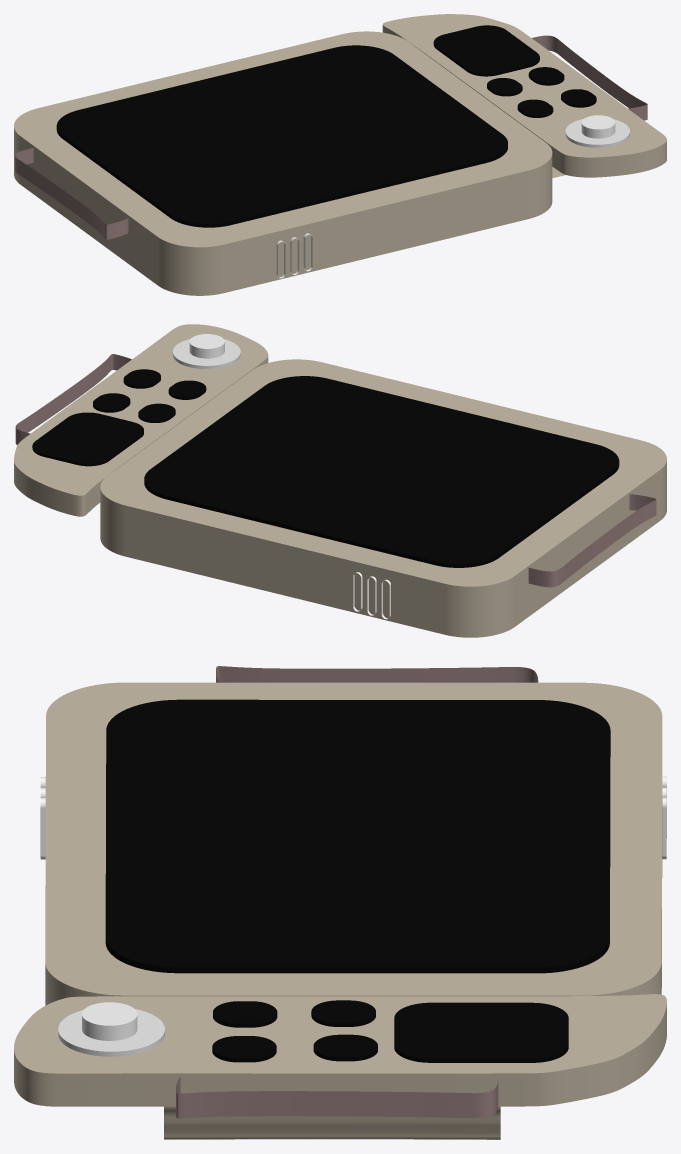
File: stove-concept-2.glb
3 renders of one model, top to bottom at view 1: azimuth 30°, elevation 25°; view 2: azimuth 150°, elevation 25°; view 3: azimuth 270°, elevation 25°, orthographic. The views are drawn at different scales.
Parts seen in each view (by area): view 1: part-01, part-23, part-19, part-20, part-12, part-13, part-17, part-14, part-16, part-15, part-22, part-21; view 2: part-01, part-23, part-19, part-20, part-12, part-13, part-17, part-14, part-16, part-15, part-22, part-21; view 3: part-01, part-23, part-19, part-20, part-13, part-18, part-12, part-17, part-14, part-15, part-16, part-22 (+1 smaller).
Part boxes in pixels (x1=…): part-01: x1=56, y1=45, x2=507, y2=227; part-23: x1=14, y1=31, x2=552, y2=295; part-19: x1=382, y1=14, x2=666, y2=177; part-20: x1=433, y1=25, x2=539, y2=76; part-12: x1=15, y1=147, x2=128, y2=239; part-13: x1=532, y1=35, x2=647, y2=120; part-17: x1=565, y1=119, x2=629, y2=147; part-14: x1=581, y1=115, x2=615, y2=138; part-16: x1=517, y1=99, x2=553, y2=117; part-15: x1=528, y1=67, x2=564, y2=85; part-22: x1=561, y1=89, x2=596, y2=107; part-21: x1=487, y1=78, x2=522, y2=96; part-01: x1=144, y1=376, x2=619, y2=567; part-23: x1=100, y1=359, x2=666, y2=637; part-19: x1=14, y1=324, x2=268, y2=516; part-20: x1=32, y1=412, x2=143, y2=466; part-12: x1=528, y1=494, x2=656, y2=587; part-13: x1=15, y1=354, x2=131, y2=444; part-17: x1=172, y1=339, x2=240, y2=368; part-14: x1=189, y1=334, x2=224, y2=358; part-16: x1=168, y1=380, x2=206, y2=399; part-15: x1=93, y1=393, x2=130, y2=412; part-22: x1=123, y1=369, x2=160, y2=388; part-21: x1=138, y1=403, x2=175, y2=422; part-01: x1=105, y1=699, x2=610, y2=973; part-23: x1=45, y1=682, x2=662, y2=1005; part-19: x1=14, y1=994, x2=666, y2=1106; part-20: x1=394, y1=1002, x2=568, y2=1062; part-13: x1=176, y1=1076, x2=498, y2=1118; part-18: x1=164, y1=1106, x2=500, y2=1139; part-12: x1=216, y1=666, x2=538, y2=682; part-17: x1=58, y1=1009, x2=164, y2=1056; part-14: x1=82, y1=1002, x2=137, y2=1040; part-15: x1=313, y1=1034, x2=377, y2=1061; part-16: x1=213, y1=1001, x2=277, y2=1027; part-22: x1=212, y1=1036, x2=276, y2=1062.
Bounding box in the file's own units: 198 × 26.64 × 128.
